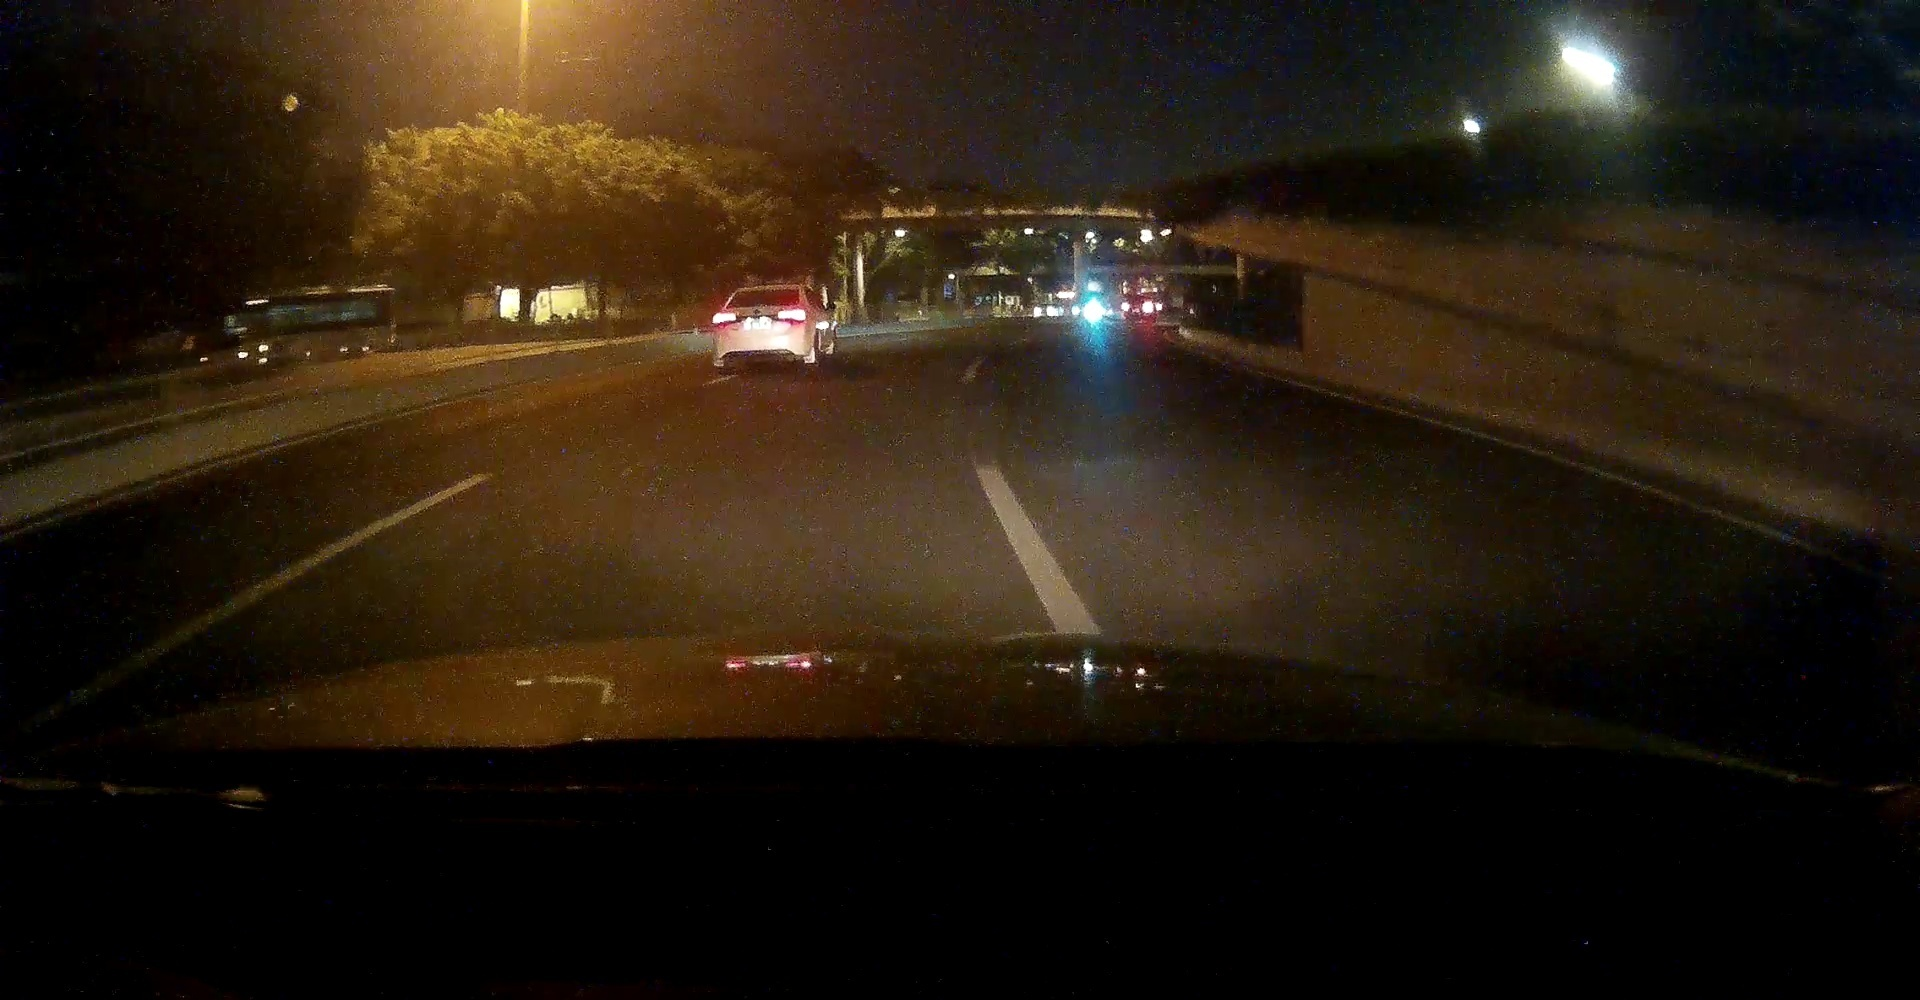L_light: (712, 311, 737, 326)
R_light: (778, 307, 806, 324)
T_light: (759, 287, 775, 292)
night-no: (712, 284, 808, 372)
